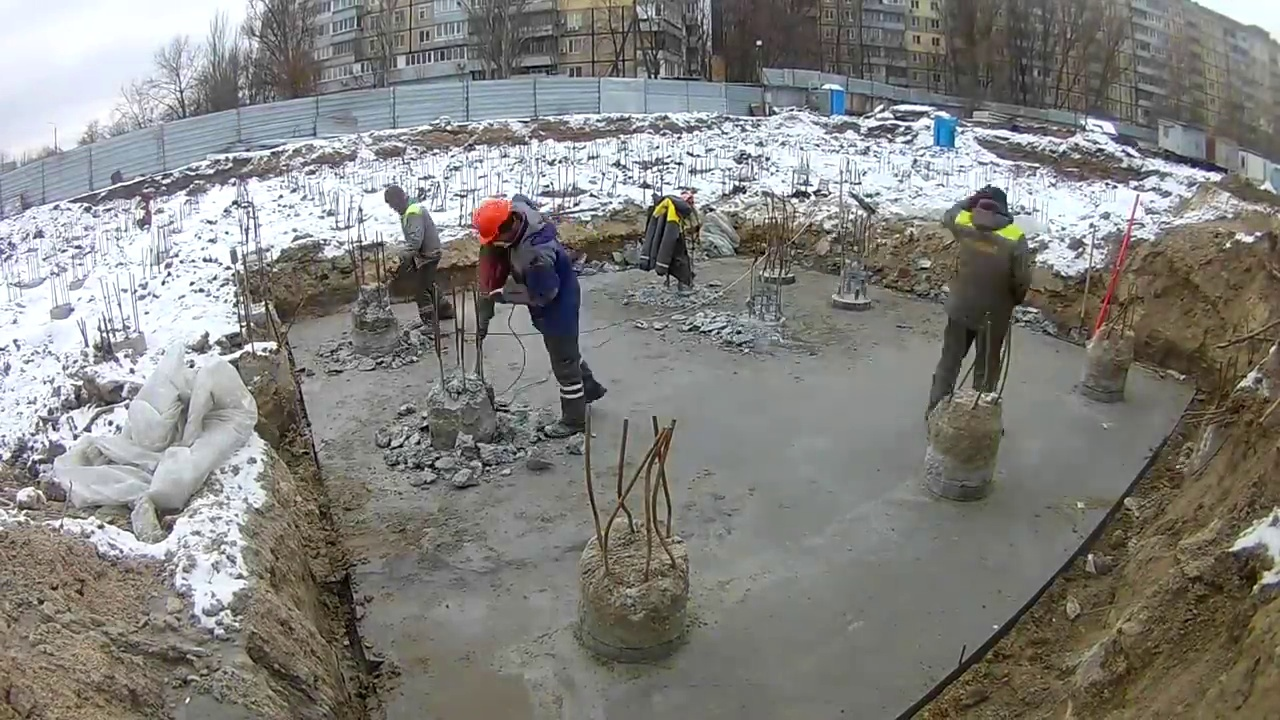helmet: (472, 198, 511, 244), (679, 193, 694, 214)
helmet-off: (962, 187, 1015, 235), (383, 186, 408, 213)
helmet-on: (473, 197, 520, 249)
person: (473, 197, 608, 440), (923, 186, 1032, 425), (383, 185, 458, 337)
